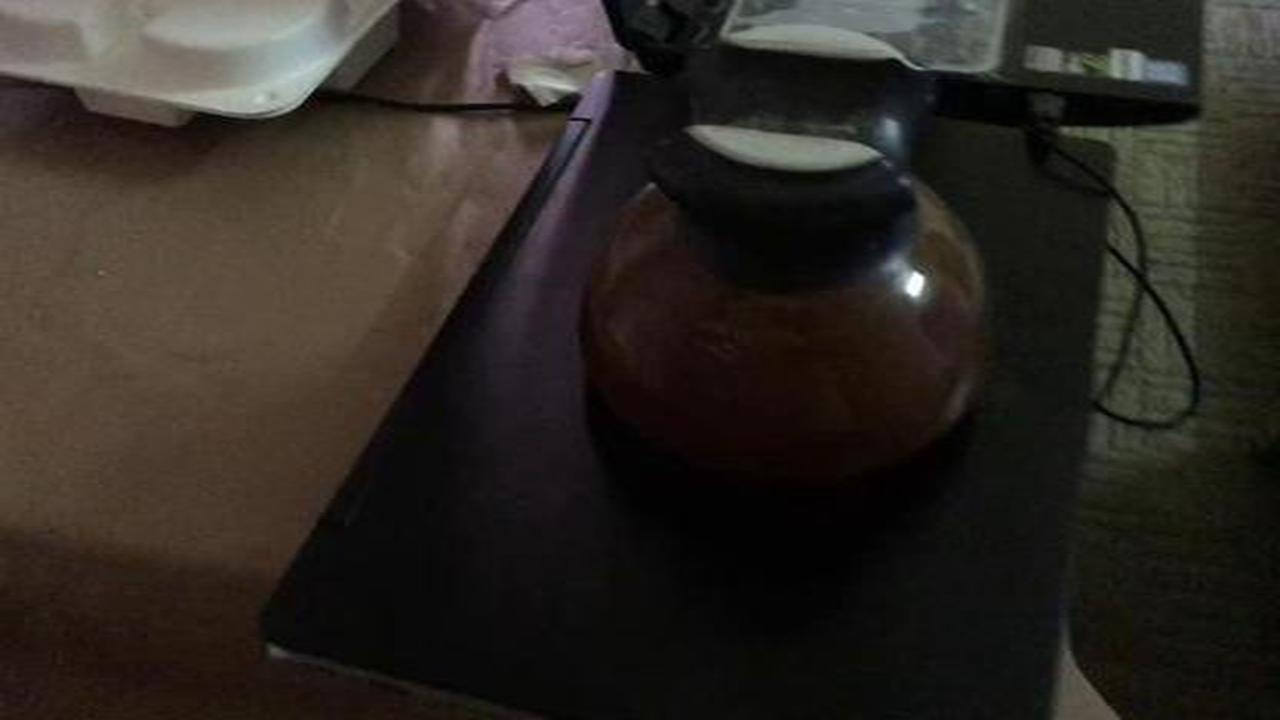insulator_pin: (567, 12, 1022, 515)
